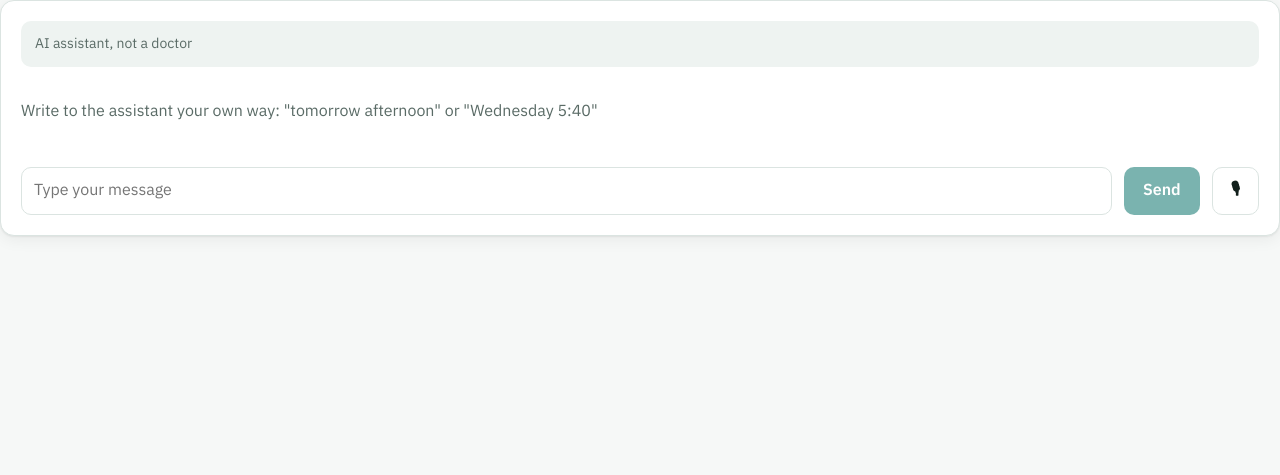
Test: voice notes › records, sends the note, and plays back both sides
Click the button named "Record a voice note" at (1235, 191), box [1212,167,1259,215]
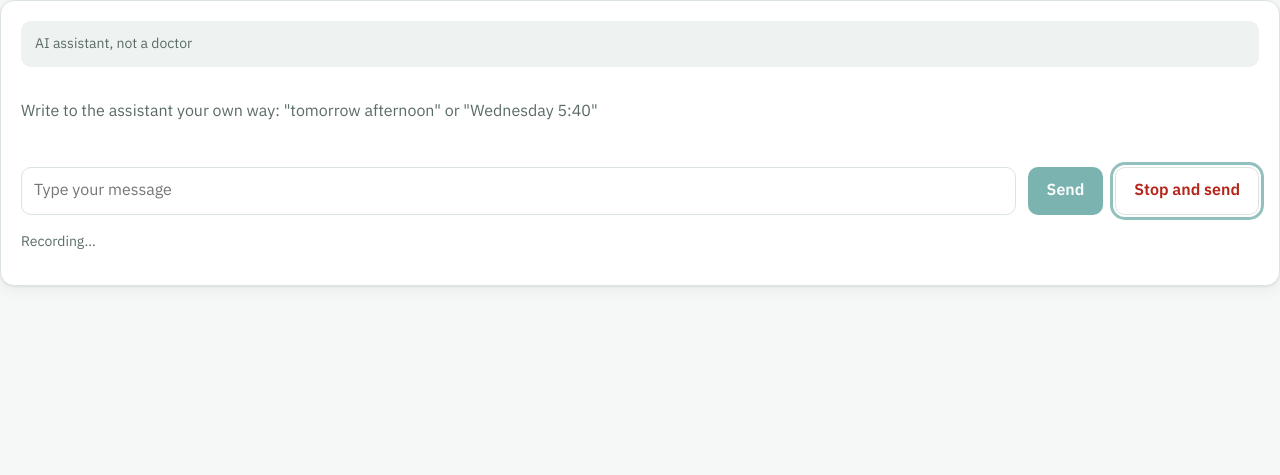
Click the button "Stop and send" at (1187, 191), box [1115,167,1259,215]
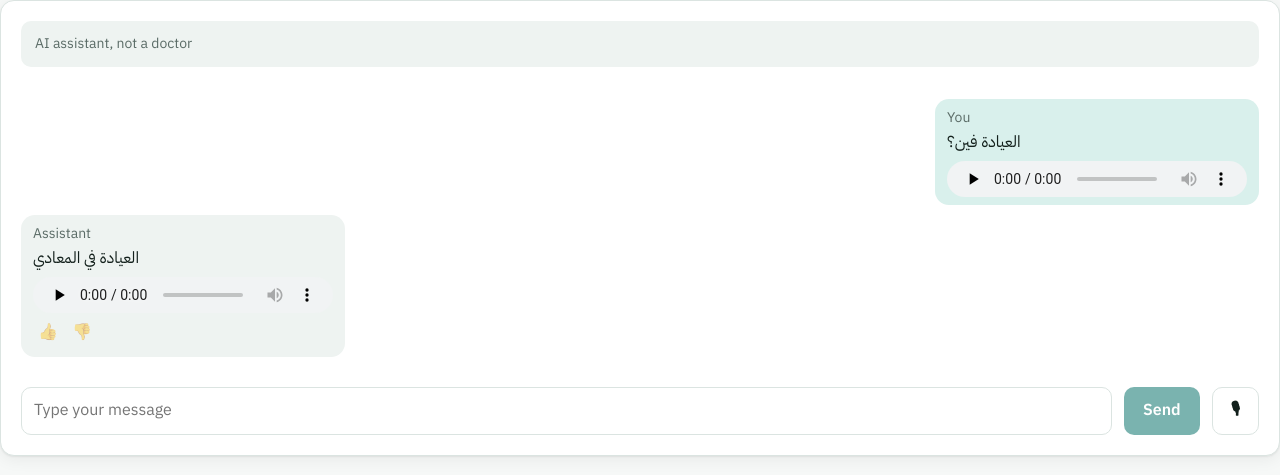
Expected: the text "العيادة في المعادي" is shown, [33,246,139,270]
Expected: the text "العيادة فين؟" is shown, [947,130,1021,154]
